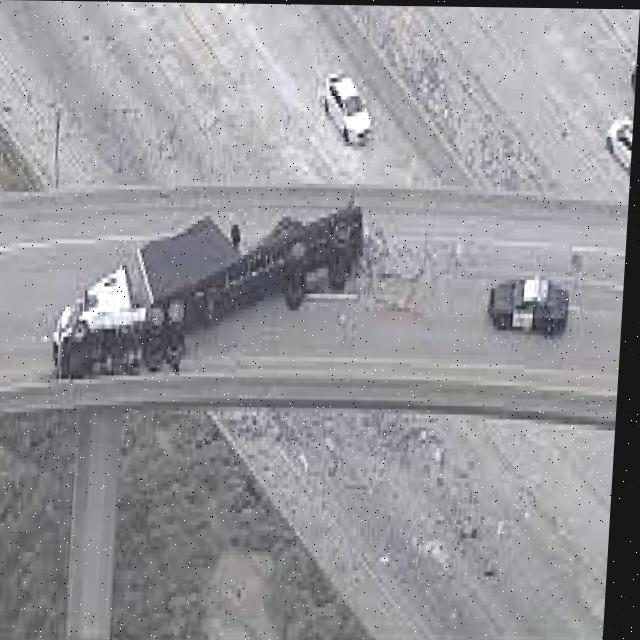single accident: (30, 142, 420, 446)
